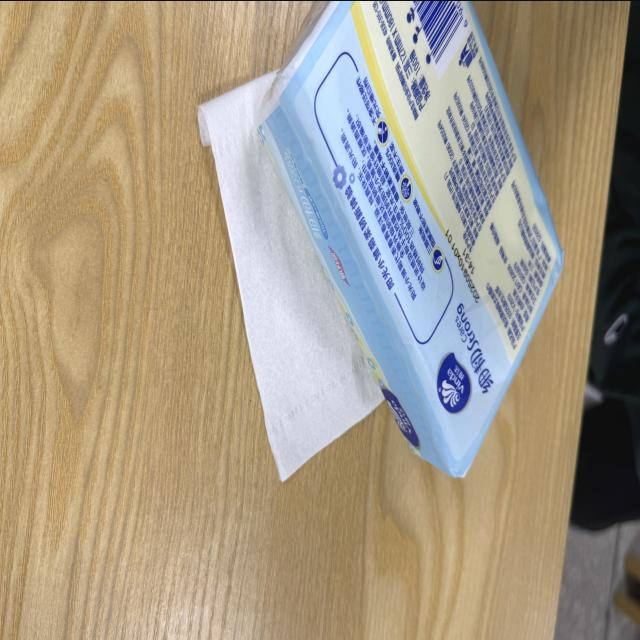tissue: (202, 1, 564, 477)
